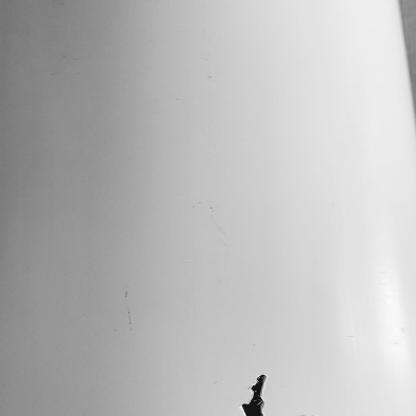kongdong: (237, 373, 273, 416)
